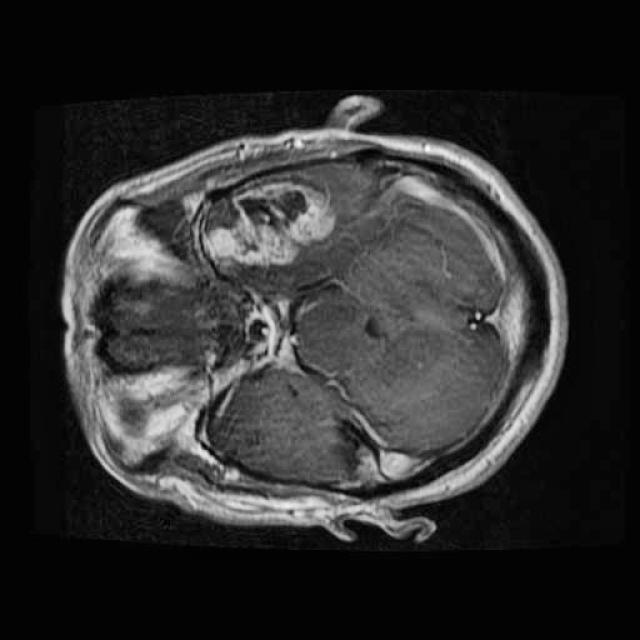Tumor: (190, 176, 341, 275)
